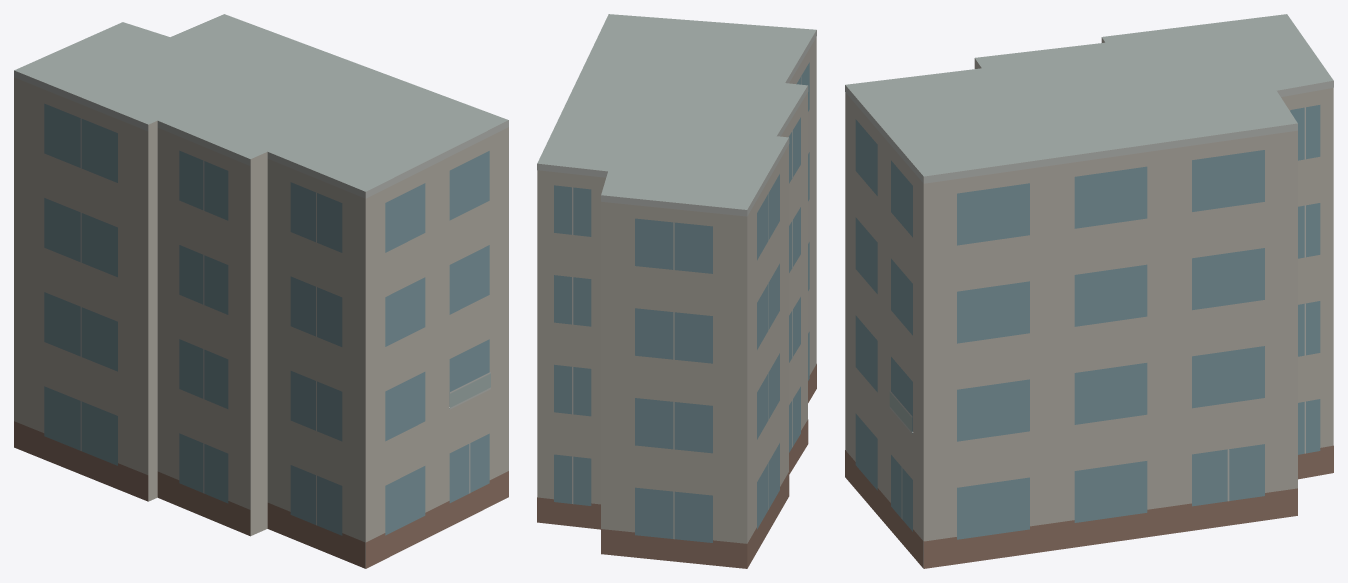
File: survey-upis-32495077.glb
The picture shows the model from 3 angles, left to right: view 1: azimuth 30°, elevation 25°; view 2: azimuth 150°, elevation 25°; view 3: azimuth 270°, elevation 25°; orthographic projection. The views are drawn at different scales.
Parts seen in each view (by area): view 1: survey-upis-32495077.tmp; view 2: survey-upis-32495077.tmp; view 3: survey-upis-32495077.tmp.
Boxes of the visible parts, x1,y1,x2,y2 form: survey-upis-32495077.tmp: (14, 14, 508, 568); survey-upis-32495077.tmp: (537, 14, 816, 568); survey-upis-32495077.tmp: (845, 14, 1333, 568).
Size of the model in its own units: 11.84 by 13.31 by 15.04.
